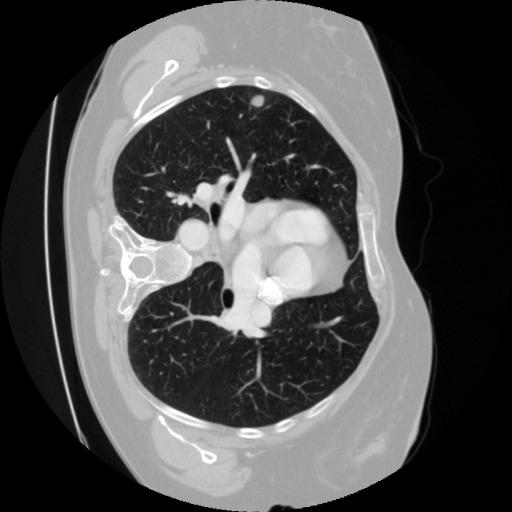nodule: (250, 94, 269, 113)
